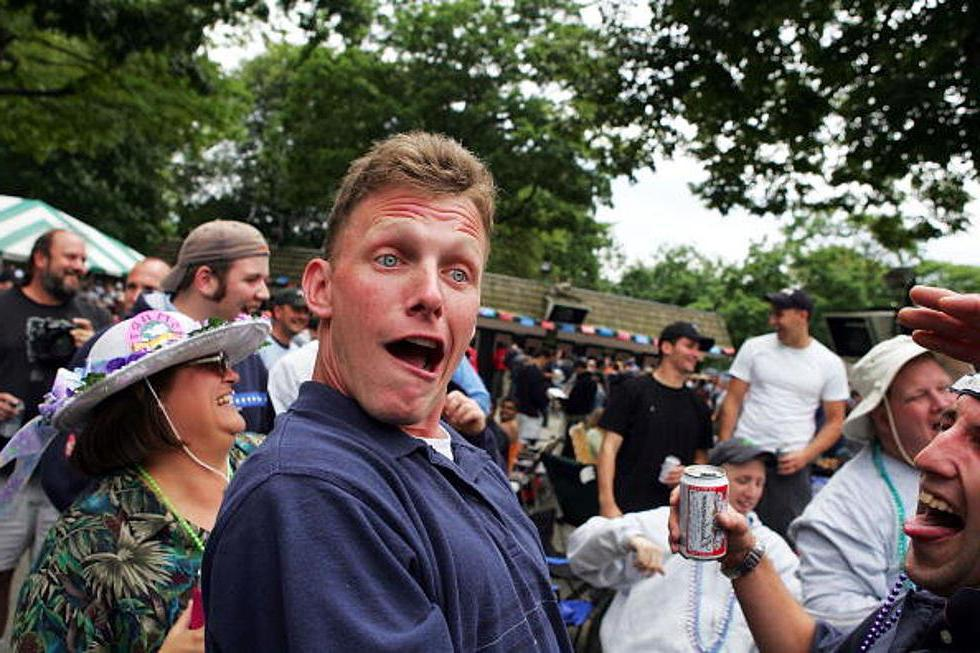Drunk: (356, 190, 473, 420)
